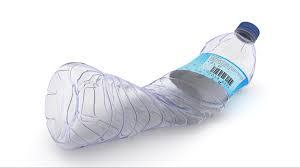plastic: (42, 22, 264, 149)
